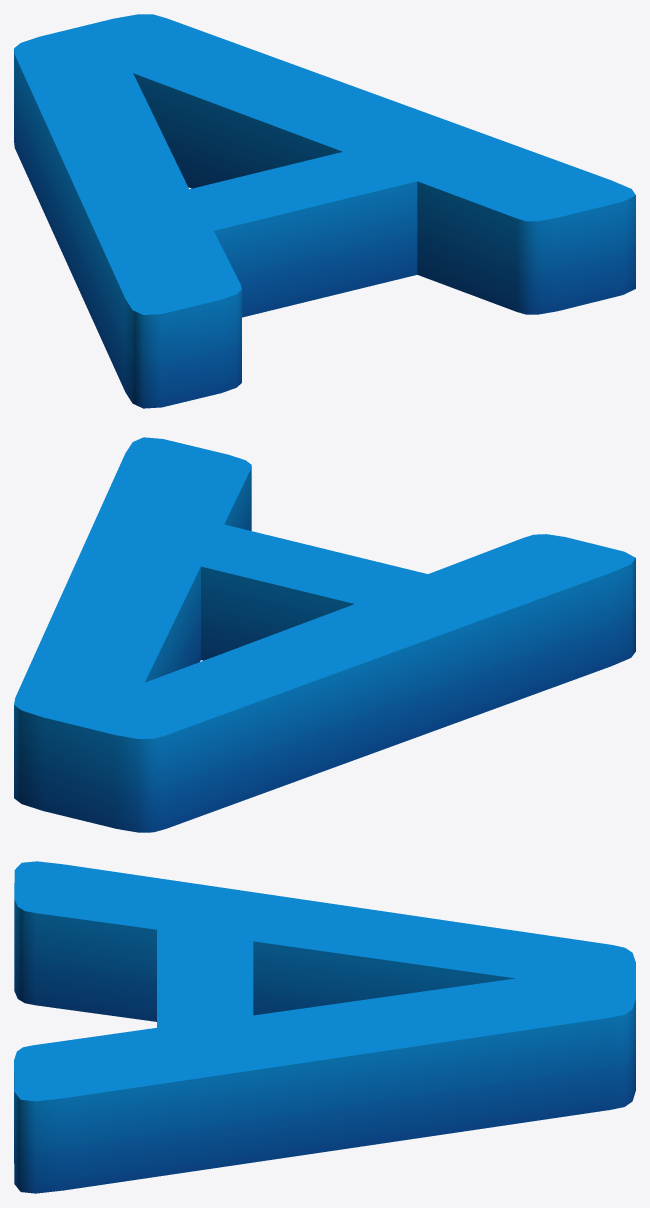
The model's file is letter_A.fbx.
The picture shows the model from 3 angles, top to bottom: view 1: azimuth 30°, elevation 25°; view 2: azimuth 150°, elevation 25°; view 3: azimuth 270°, elevation 25°; orthographic projection.
Visible parts, largest first — view 1: letter_A; view 2: letter_A; view 3: letter_A.
Boxes of the visible parts, x1,y1,x2,y2 form: letter_A: (14, 14, 635, 408); letter_A: (14, 437, 635, 832); letter_A: (14, 861, 635, 1193).
Bounding box in the file's own units: 20.93 × 3.75 × 22.92.
